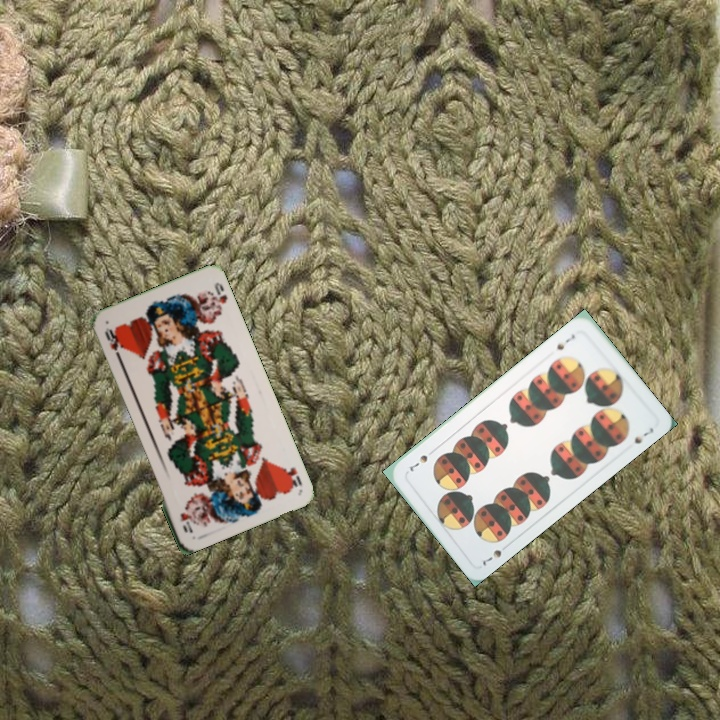HO: (101, 324, 123, 362), (279, 462, 305, 492)
S7: (478, 540, 512, 569), (553, 330, 577, 353)
